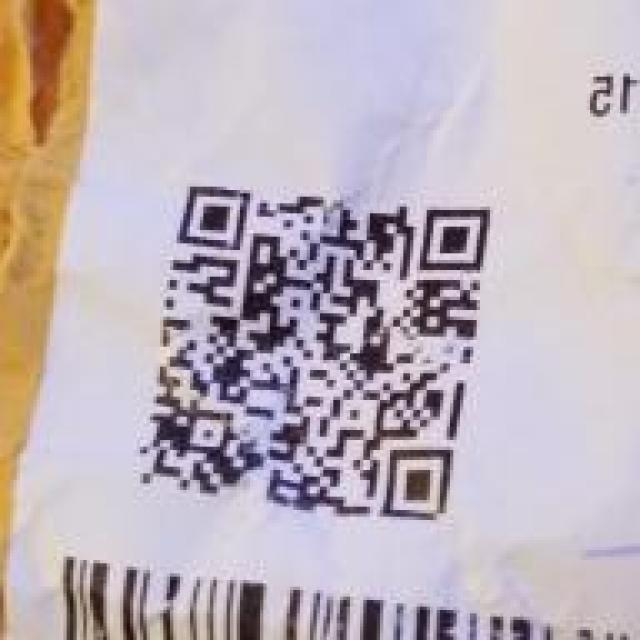qr_code: (136, 186, 492, 521)
